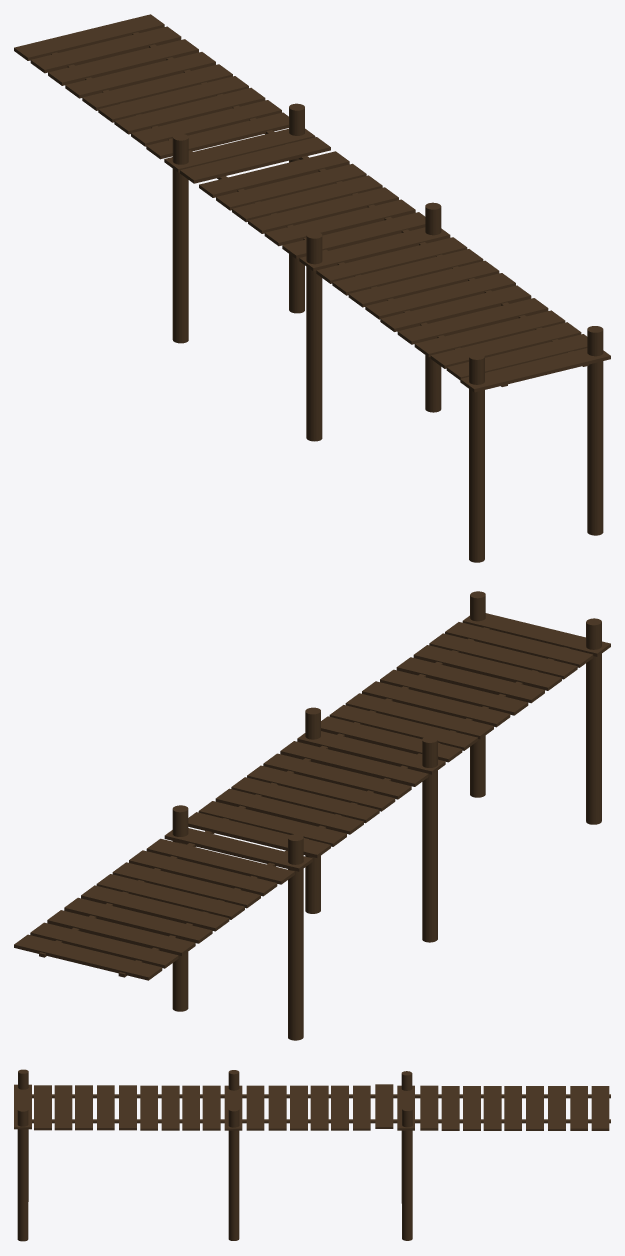
Rendered from dock.fbx.
The picture shows the model from 3 angles, top to bottom: view 1: azimuth 30°, elevation 25°; view 2: azimuth 150°, elevation 25°; view 3: azimuth 270°, elevation 25°; orthographic projection. The views are drawn at different scales.
Parts seen in each view (by area): view 1: Cylinder, Cylinder.005, Cylinder.002, Cylinder.003, Cube.015, Cube.027, Cube.023, Cube.003, Cube.022, Cube.002, Cube.014, Cube.024 (+22 smaller); view 2: Cylinder.005, Cylinder.003, Cylinder.002, Cube.026, Cube.009, Cube.023, Cube.022, Cube.002, Cube.021, Cube.001, Cube.013, Cube.027 (+22 smaller); view 3: Cylinder, Cylinder.004, Cylinder.001, Cube.007, Cube.010, Cube.012, Cube.017, Cube.019, Cube, Cube.009, Cube.015, Cube.020 (+23 smaller).
Part boxes in pixels (x1=…): Cylinder: x1=587, y1=326, x2=603, y2=535; Cylinder.005: x1=306, y1=231, x2=322, y2=441; Cylinder.002: x1=172, y1=133, x2=188, y2=343; Cylinder.003: x1=469, y1=353, x2=484, y2=562; Cube.015: x1=180, y1=137, x2=330, y2=183; Cube.027: x1=30, y1=26, x2=181, y2=73; Cube.023: x1=48, y1=39, x2=198, y2=85; Cube.003: x1=380, y1=285, x2=531, y2=331; Cube.022: x1=65, y1=52, x2=215, y2=98; Cube.002: x1=397, y1=298, x2=548, y2=344; Cube.014: x1=199, y1=151, x2=349, y2=197; Cube.024: x1=114, y1=87, x2=265, y2=134; Cylinder.005: x1=422, y1=736, x2=437, y2=942; Cylinder.003: x1=586, y1=618, x2=601, y2=824; Cylinder.002: x1=288, y1=834, x2=303, y2=1040; Cube.026: x1=14, y1=934, x2=162, y2=980; Cube.009: x1=280, y1=741, x2=428, y2=786; Cube.023: x1=47, y1=910, x2=195, y2=955; Cube.022: x1=64, y1=897, x2=212, y2=943; Cube.002: x1=396, y1=657, x2=544, y2=703; Cube.021: x1=81, y1=885, x2=229, y2=931; Cube.001: x1=413, y1=645, x2=561, y2=690; Cube.013: x1=215, y1=788, x2=363, y2=834; Cube.027: x1=30, y1=922, x2=178, y2=968; Cylinder: x1=17, y1=1107, x2=28, y2=1241; Cylinder.004: x1=228, y1=1107, x2=239, y2=1240; Cylinder.001: x1=402, y1=1107, x2=412, y2=1240; Cube.007: x1=202, y1=1085, x2=220, y2=1130; Cube.010: x1=161, y1=1085, x2=179, y2=1130; Cube.012: x1=310, y1=1085, x2=328, y2=1130; Cube.017: x1=268, y1=1085, x2=286, y2=1130; Cube.019: x1=420, y1=1085, x2=438, y2=1130; Cube: x1=54, y1=1085, x2=72, y2=1130; Cube.009: x1=246, y1=1085, x2=264, y2=1130; Cube.015: x1=375, y1=1084, x2=393, y2=1128; Cube.020: x1=483, y1=1086, x2=501, y2=1130.
Bounding box in the file's own units: 1581 × 2179 × 9001.
